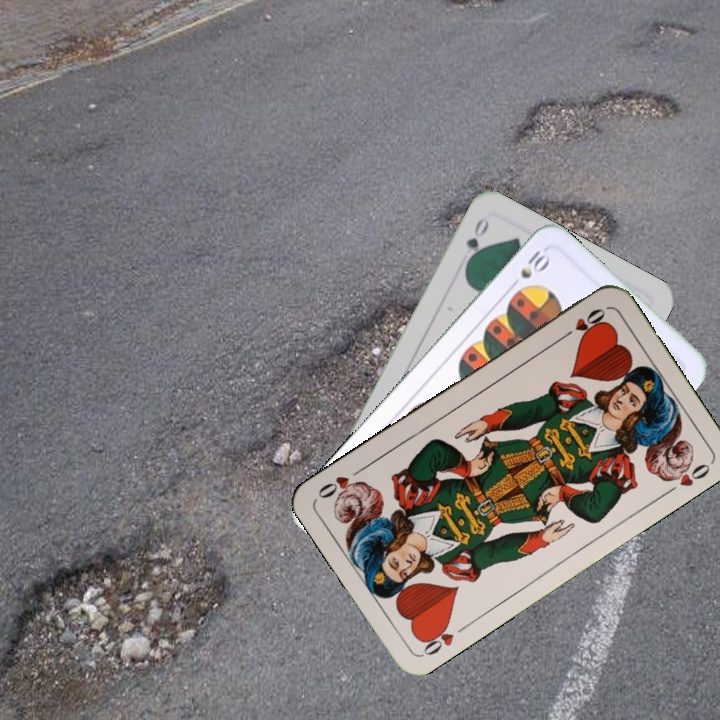GO: (461, 214, 492, 270)
HO: (557, 304, 608, 342), (415, 617, 456, 659)
S10: (516, 246, 553, 282)
